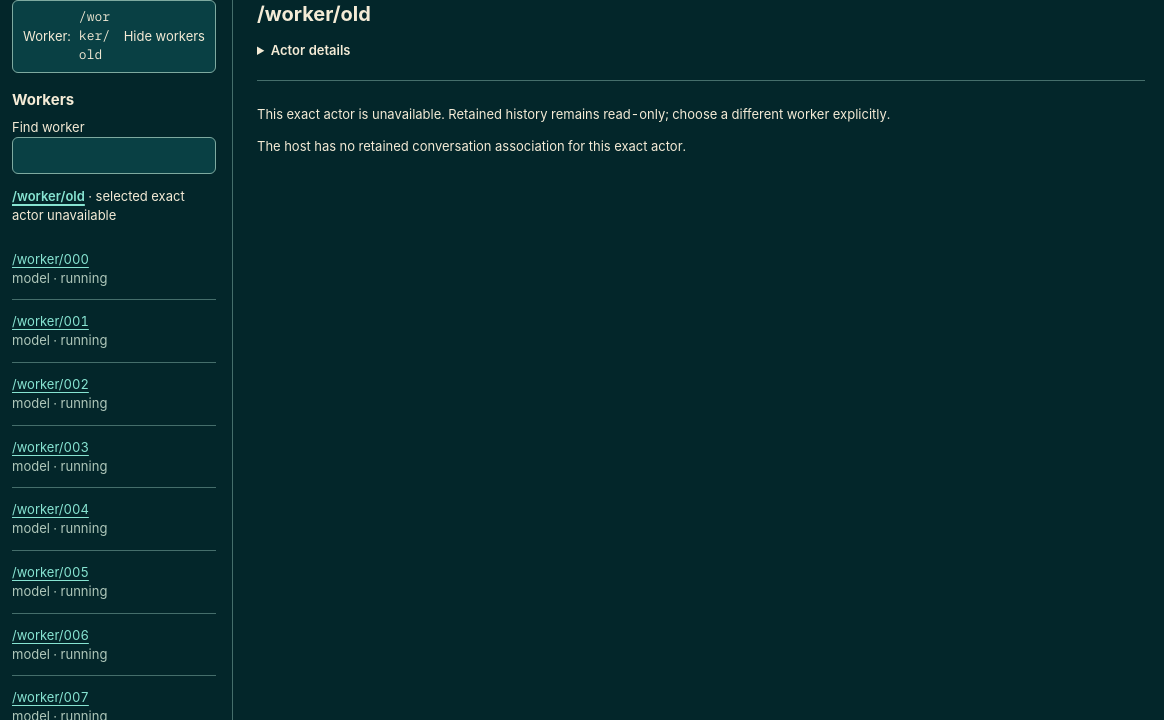
exact worker Chat › keeps search, page, and URL unchanged when the selected exact worker is unavailable
The image size is (1164, 720).
Step 1. Type "run-" into the search field labelled "Find worker" → (114, 156), box top-left (12, 137), bottom-right (216, 174)
(page scrolled)
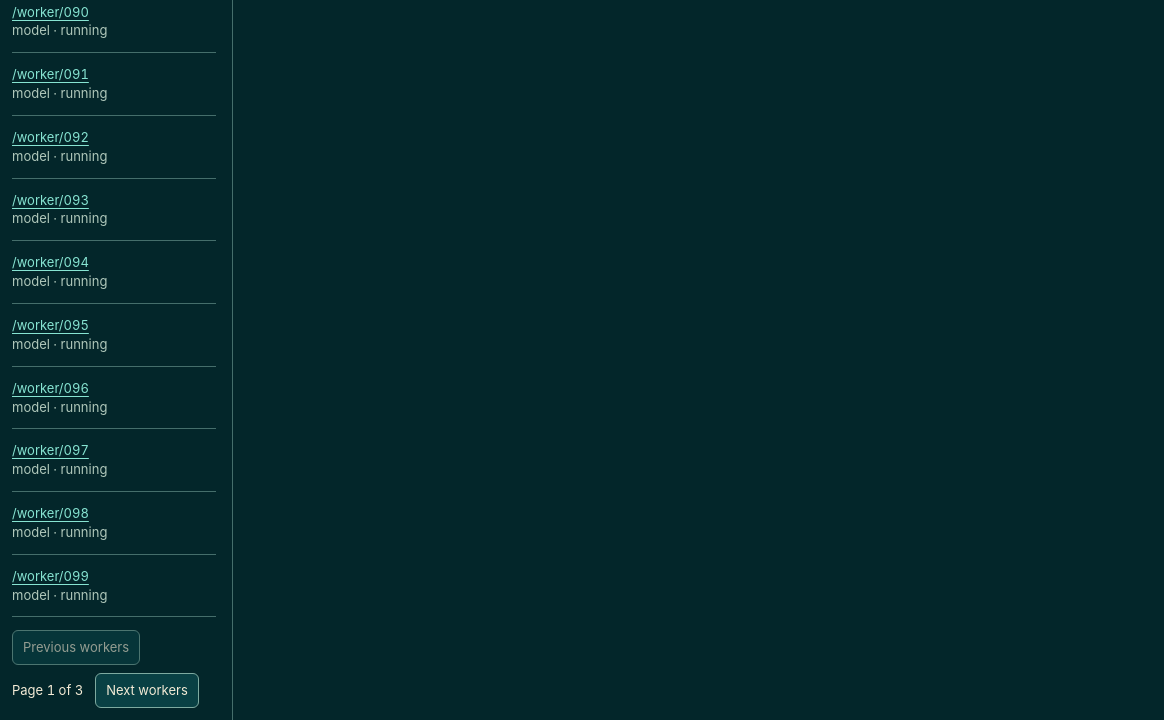
Step 2. Click the button "Next workers" → (147, 691), box top-left (95, 673), bottom-right (199, 708)
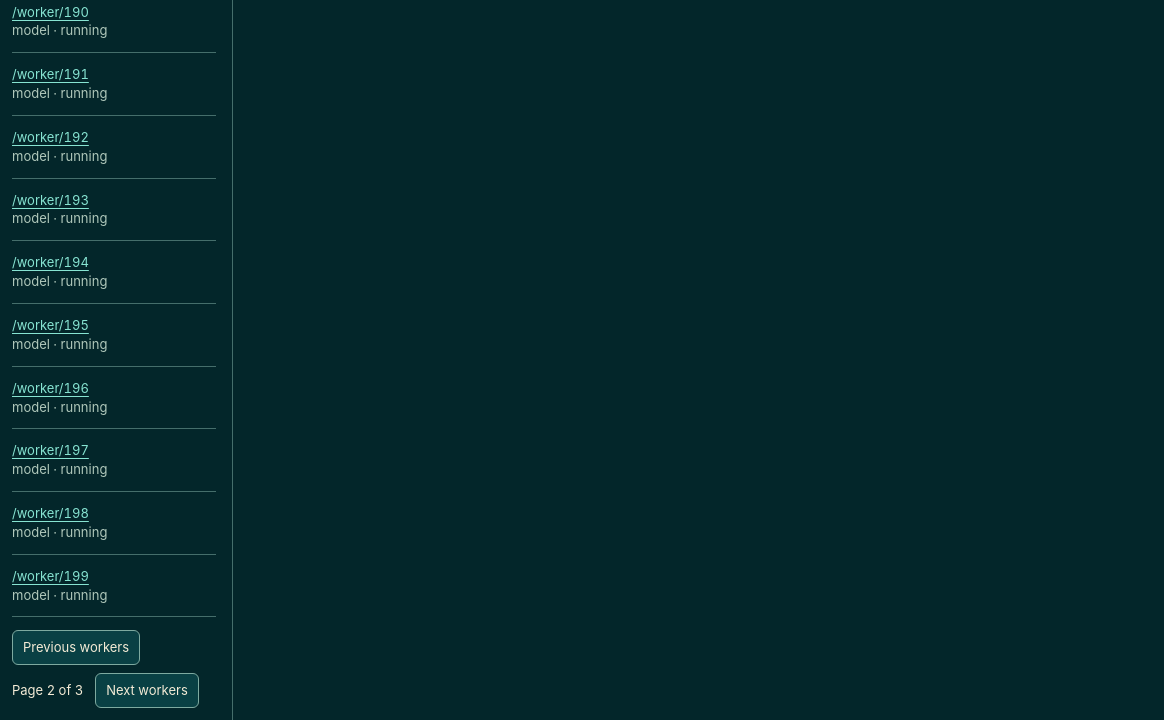
Expected: the text "Page 2 of 3" is shown, top-left (12, 681), bottom-right (83, 700)
